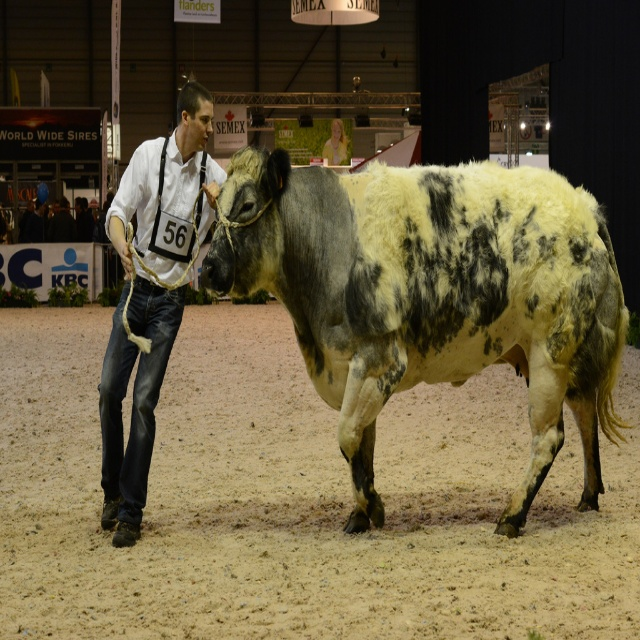Bull: (197, 137, 636, 539)
